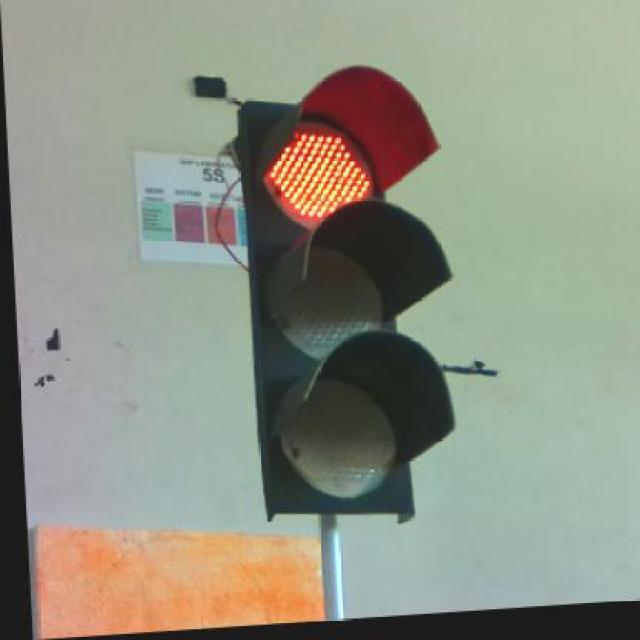traffic light: (237, 66, 455, 521)
